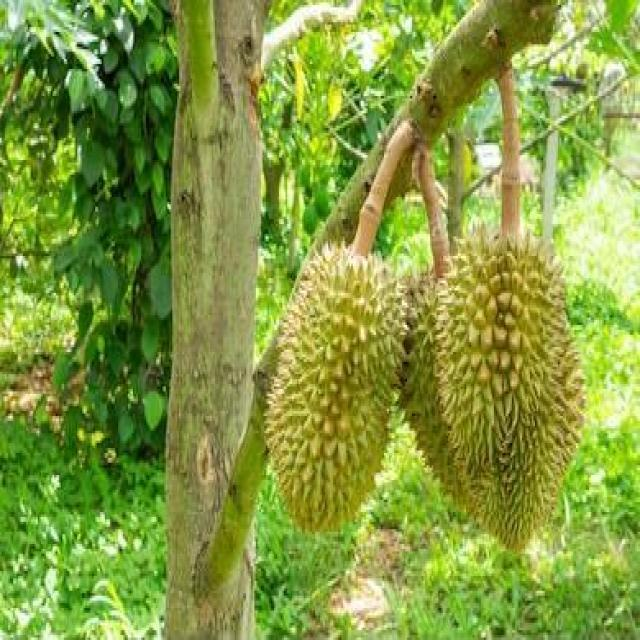immature: (435, 216, 587, 554), (262, 240, 412, 539)
